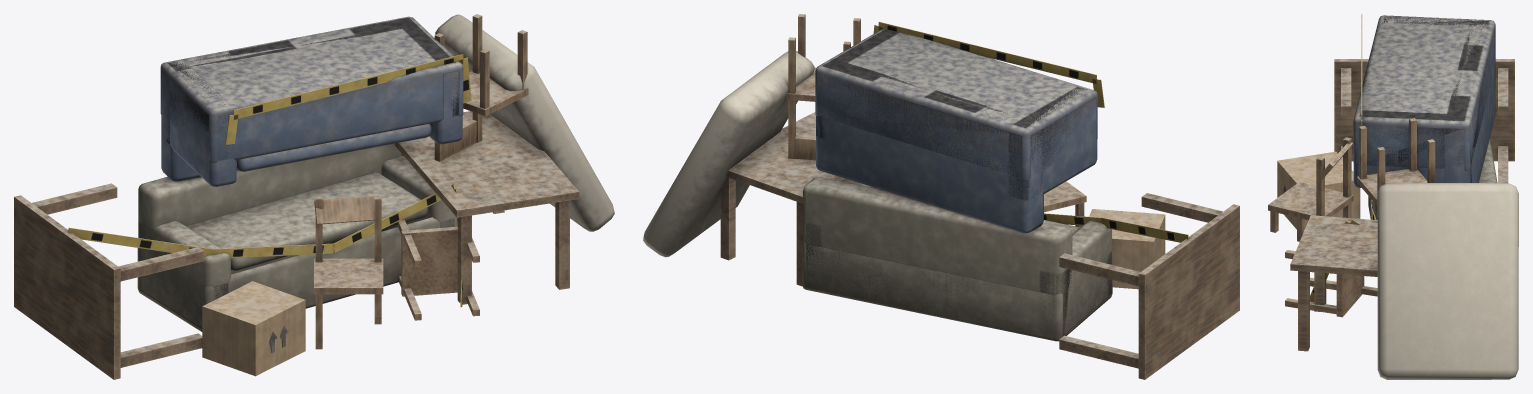
File: furniture_heap.fbx
The picture shows the model from 3 angles, left to right: view 1: azimuth 30°, elevation 25°; view 2: azimuth 150°, elevation 25°; view 3: azimuth 270°, elevation 25°; orthographic projection. The views are drawn at different scales.
Parts seen in each view (by area): view 1: Body; view 2: Body; view 3: Body.
Part boxes in pixels (x1,y1,x2,y2): Body: [14, 14, 614, 379]; Body: [643, 14, 1239, 379]; Body: [1268, 14, 1518, 379].
Bounding box in the file's own units: 14.1 × 5.77 × 6.4.
1 material, 1 textured.
